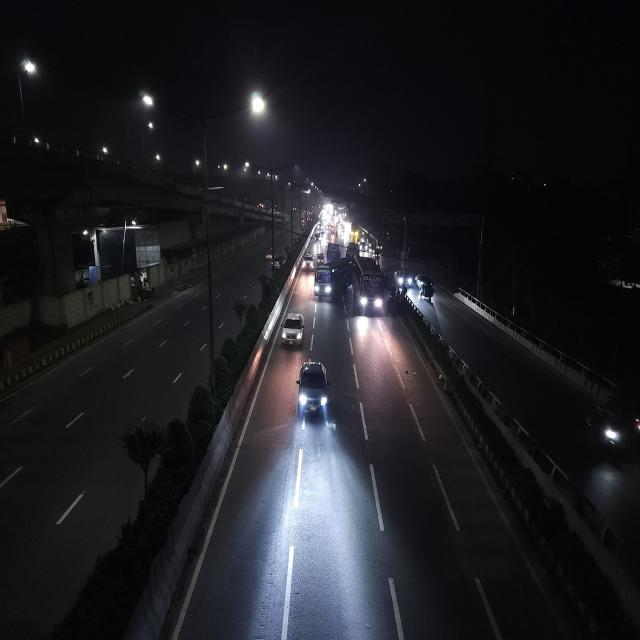bus: (351, 256, 389, 320), (312, 256, 338, 304)
car: (295, 358, 330, 422), (581, 403, 623, 456), (280, 309, 305, 351), (300, 252, 316, 274)
cng: (418, 277, 436, 304)
